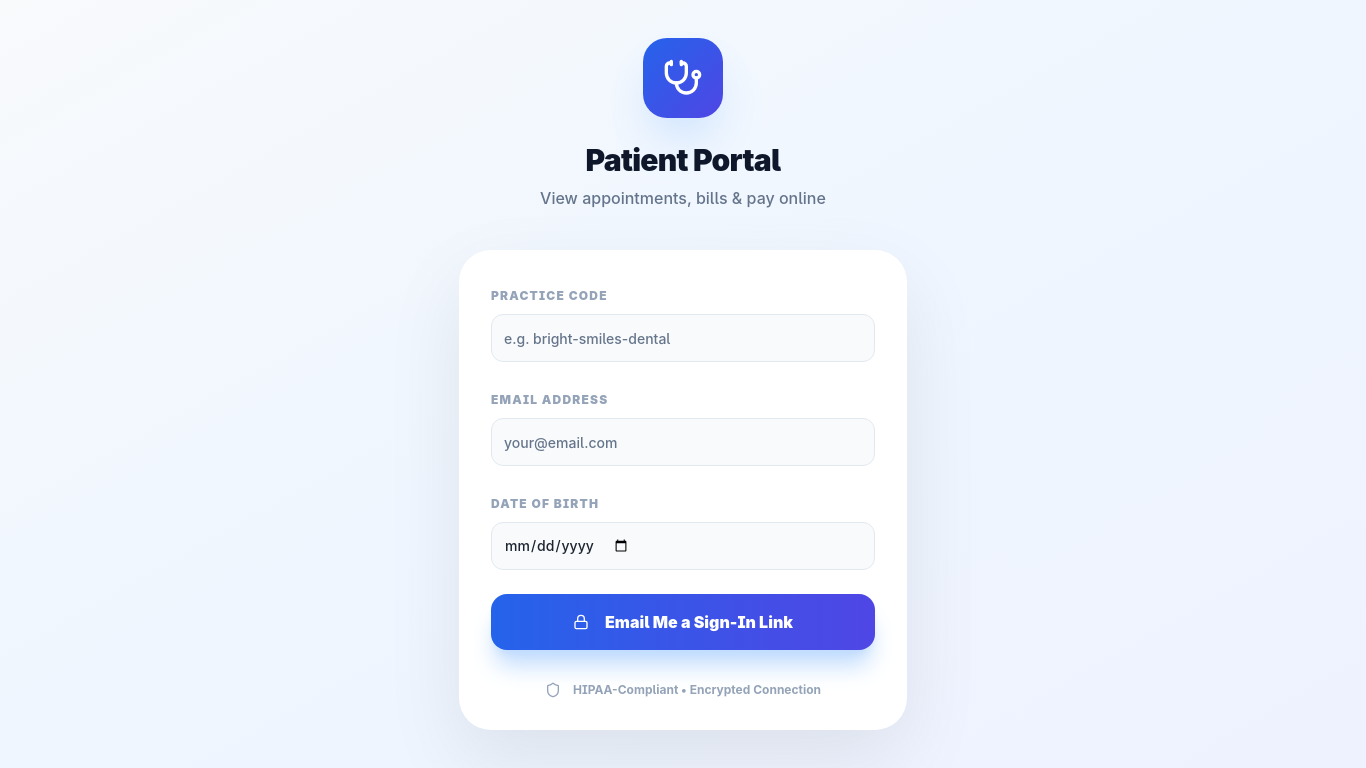
high-impact public routes › logs into the patient portal, loads all dashboard feeds, and signs out
Type "bright-smiles" into the field with placeholder "e.g. bright-smiles-dental" at (683, 338), box top-left (491, 314), bottom-right (875, 362)
Type "pat@example.com" into the field with placeholder "your@email.com" at (683, 442), box top-left (491, 418), bottom-right (875, 466)
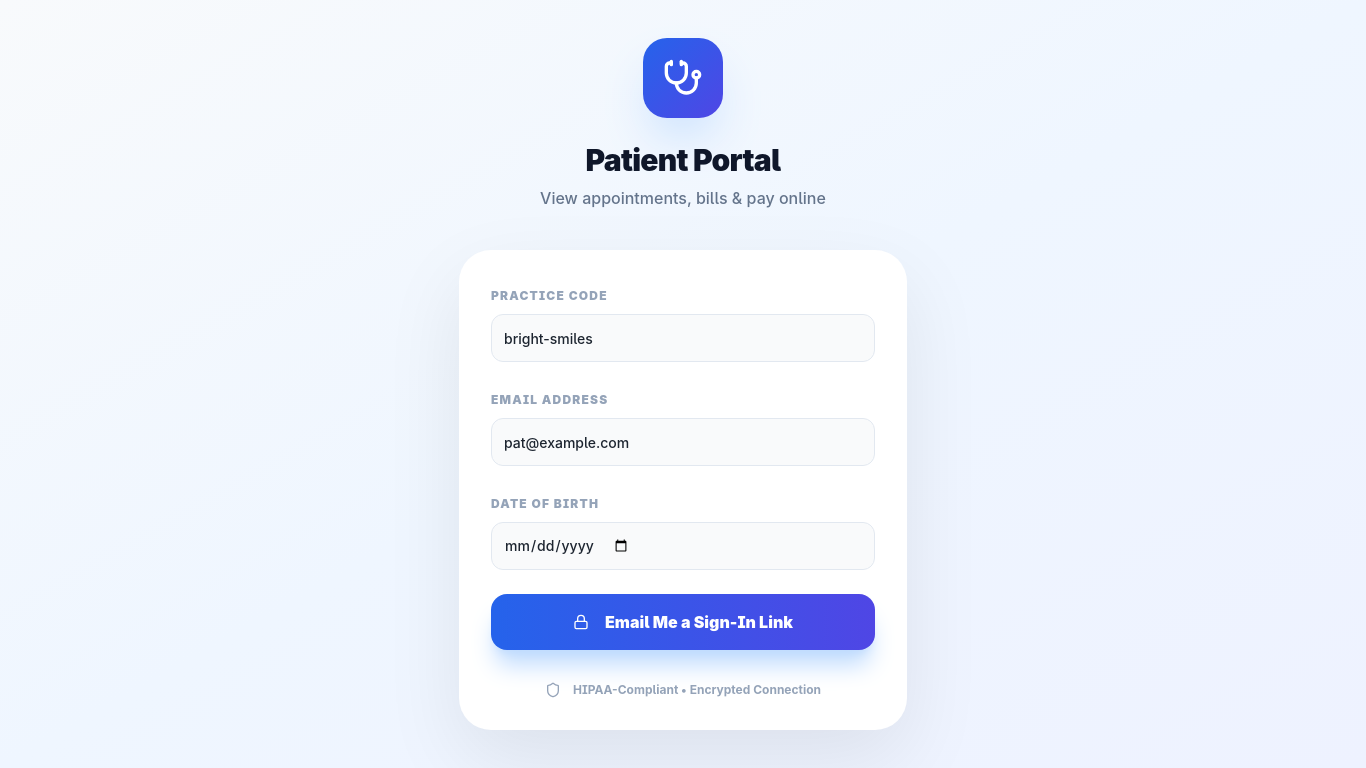
Type "1990-01-01" into the date field at (683, 546), box top-left (491, 522), bottom-right (875, 570)
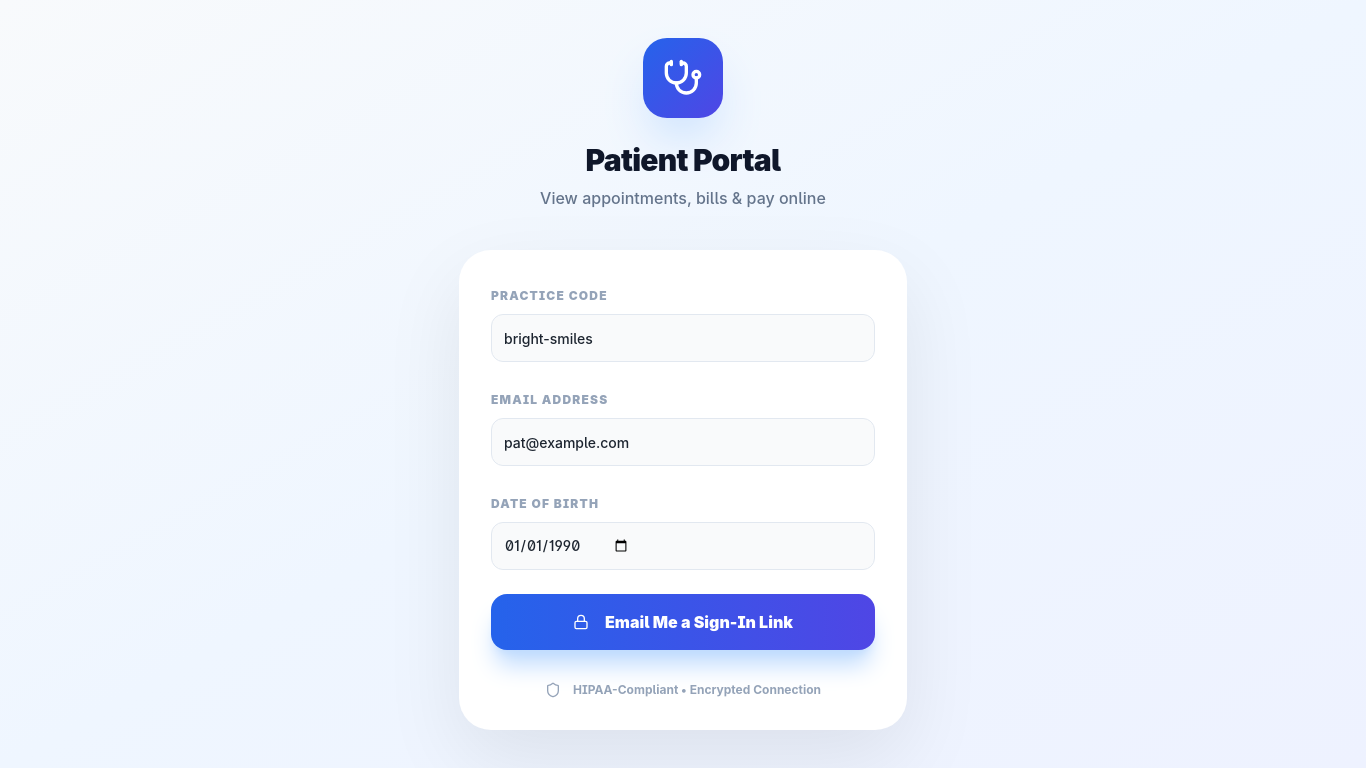
# Two-step magic-link sign-in (mirrors PatientPortal.tsx PortalLogin).
Click the button "Email Me a Sign-In Link" at (683, 622), box top-left (491, 594), bottom-right (875, 650)
(page scrolled)
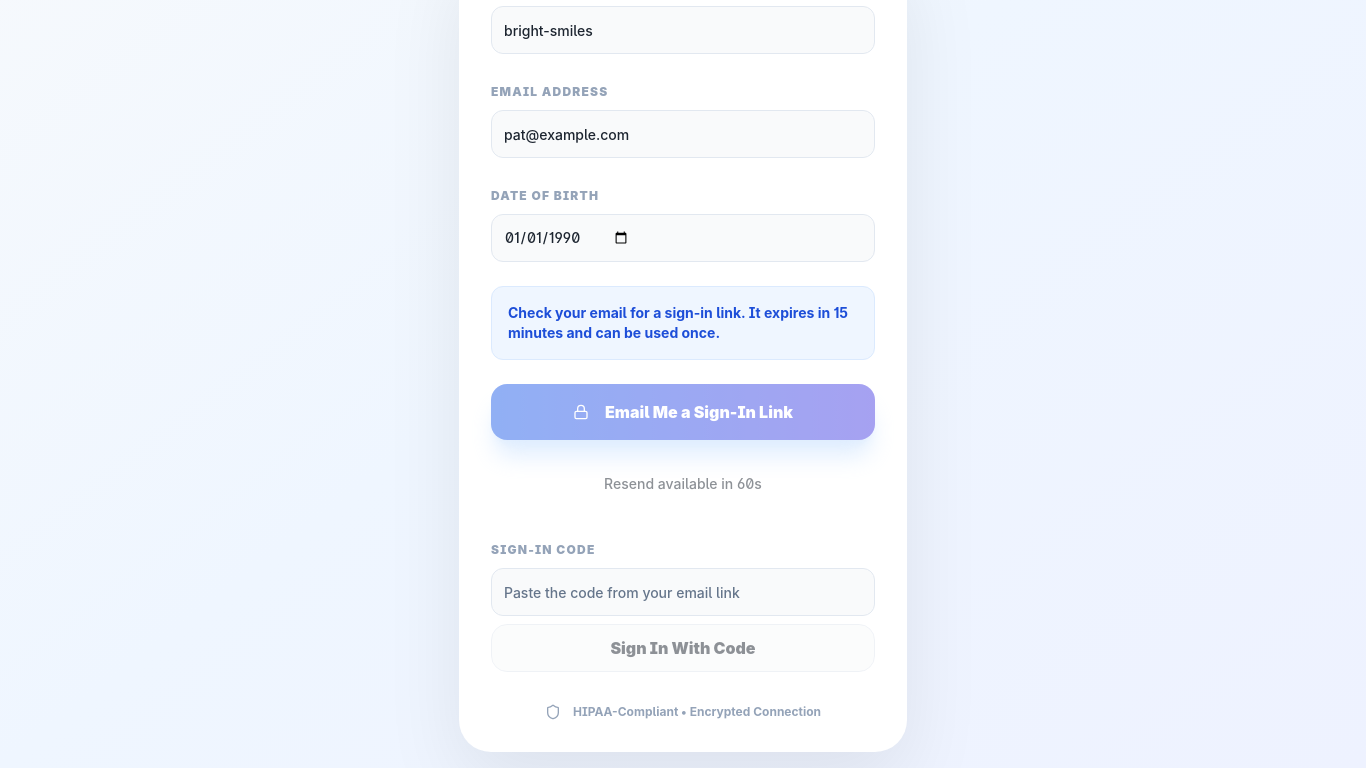
Type "magic-code-123" into the field with placeholder "Paste the code from your email link" at (683, 592), box top-left (491, 568), bottom-right (875, 616)
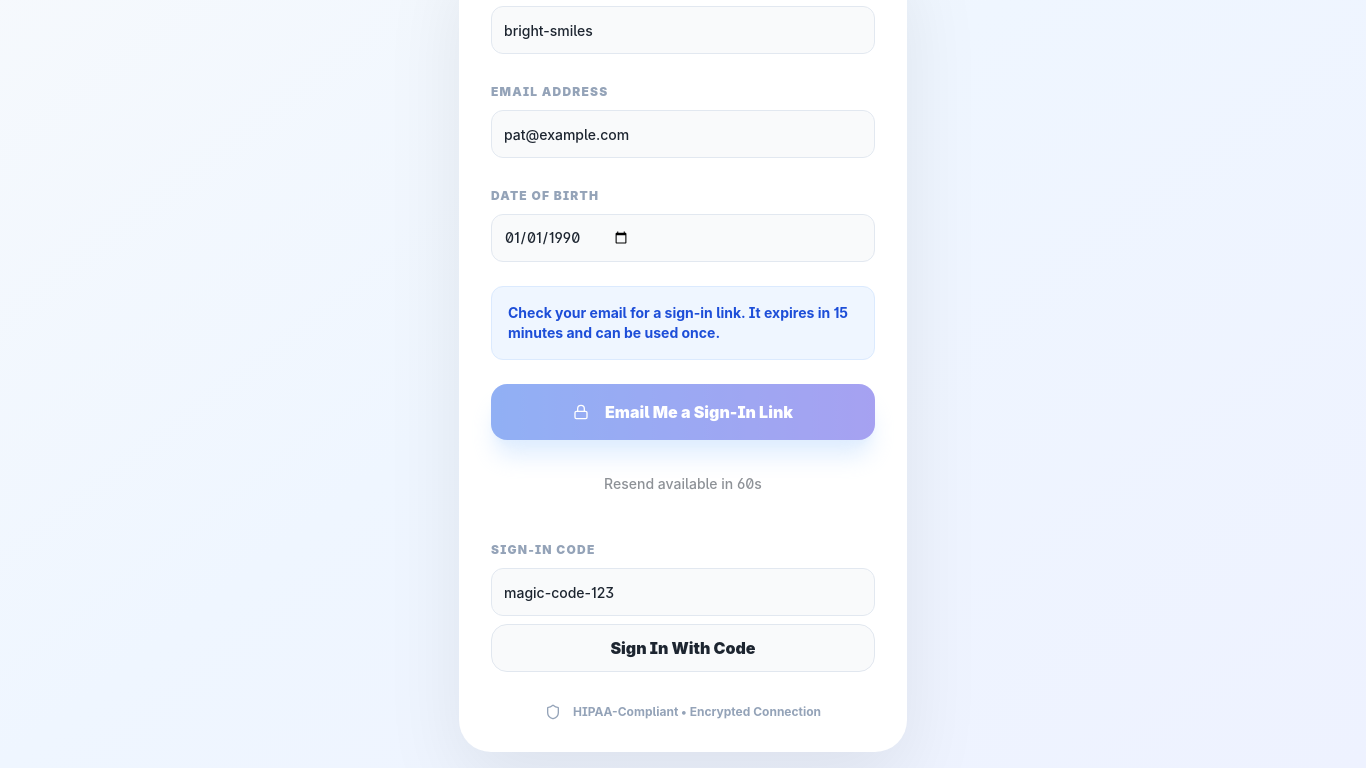
Click the button "Sign In With Code" at (683, 648), box top-left (491, 624), bottom-right (875, 672)
(page scrolled)
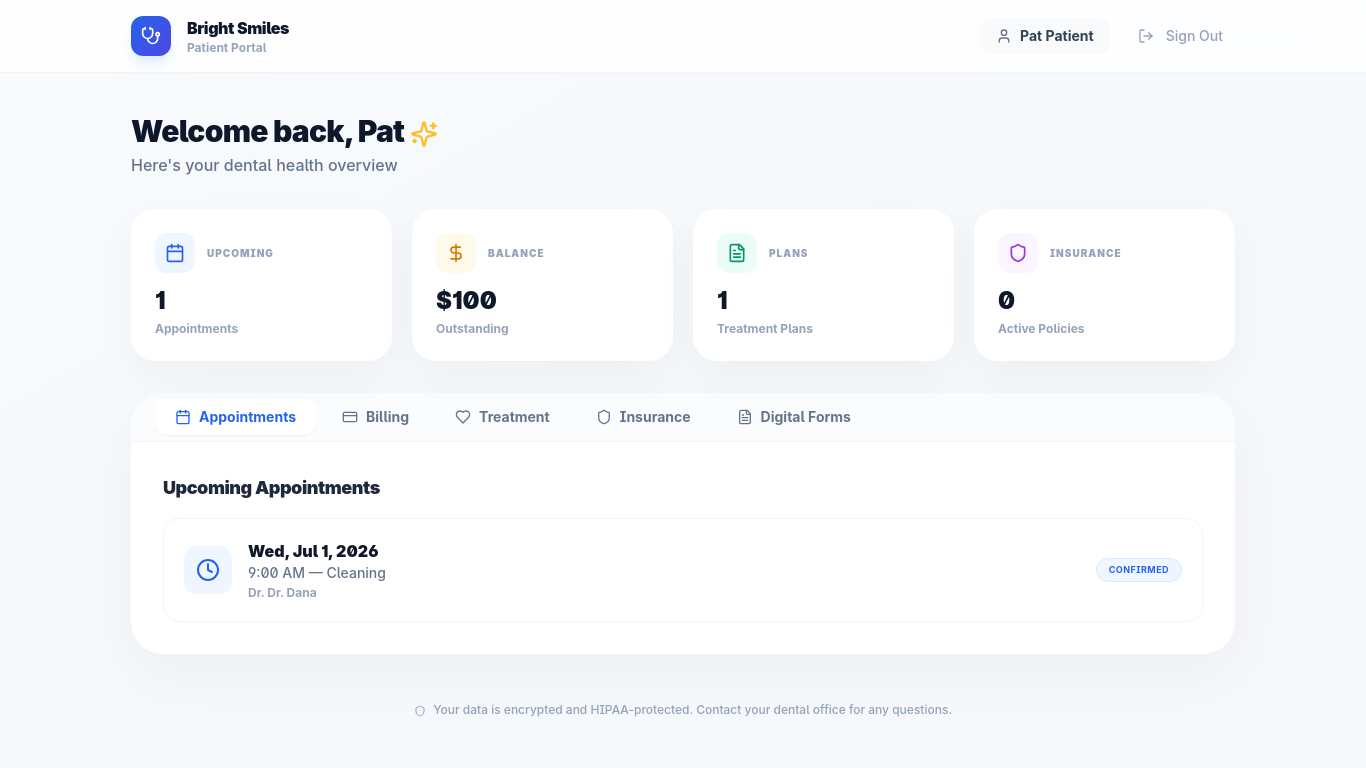
Now the heading "Welcome back, Pat" is shown, box top-left (131, 113), bottom-right (438, 149)
Now the tab "Billing" is shown, box top-left (322, 399), bottom-right (429, 435)
Click the button "Sign Out" at (1180, 36), box top-left (1126, 18), bottom-right (1235, 54)
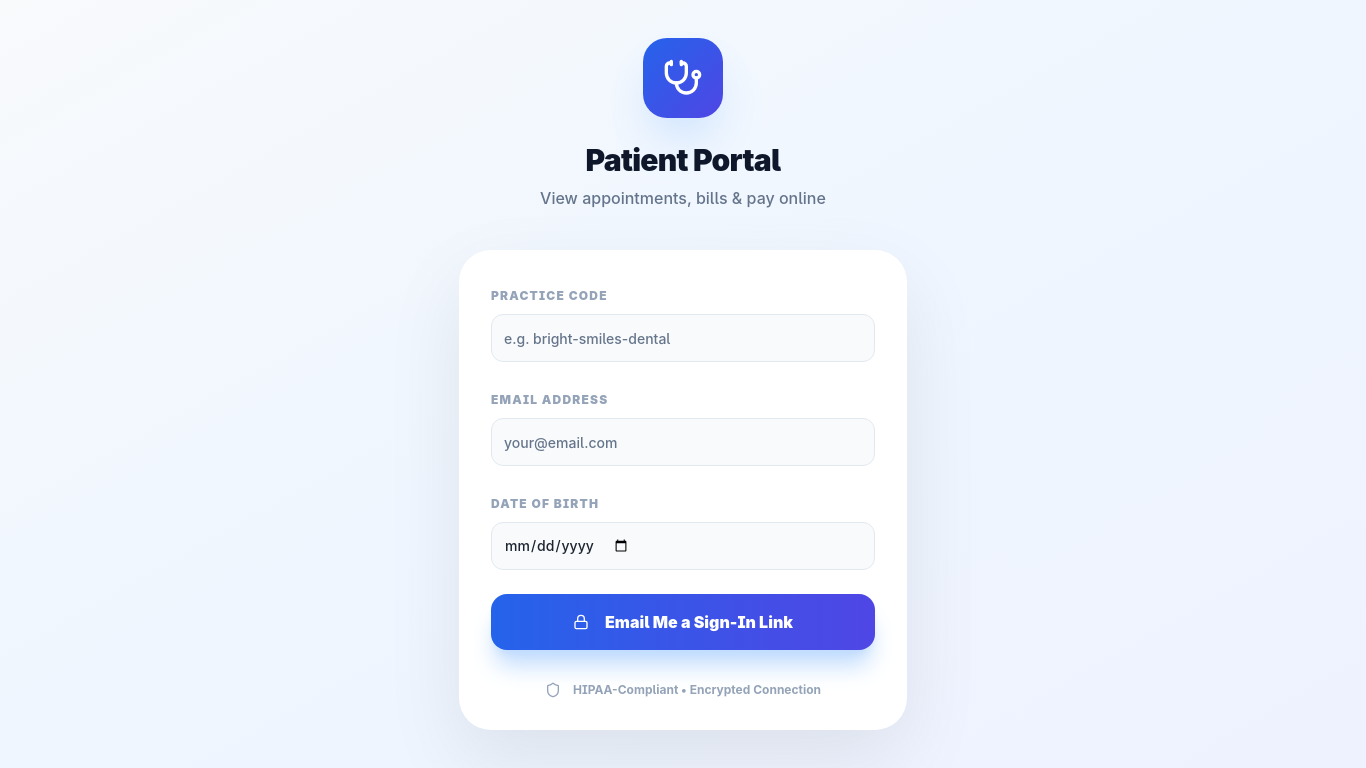
Now the heading "Patient Portal" is shown, box top-left (586, 142), bottom-right (780, 178)
